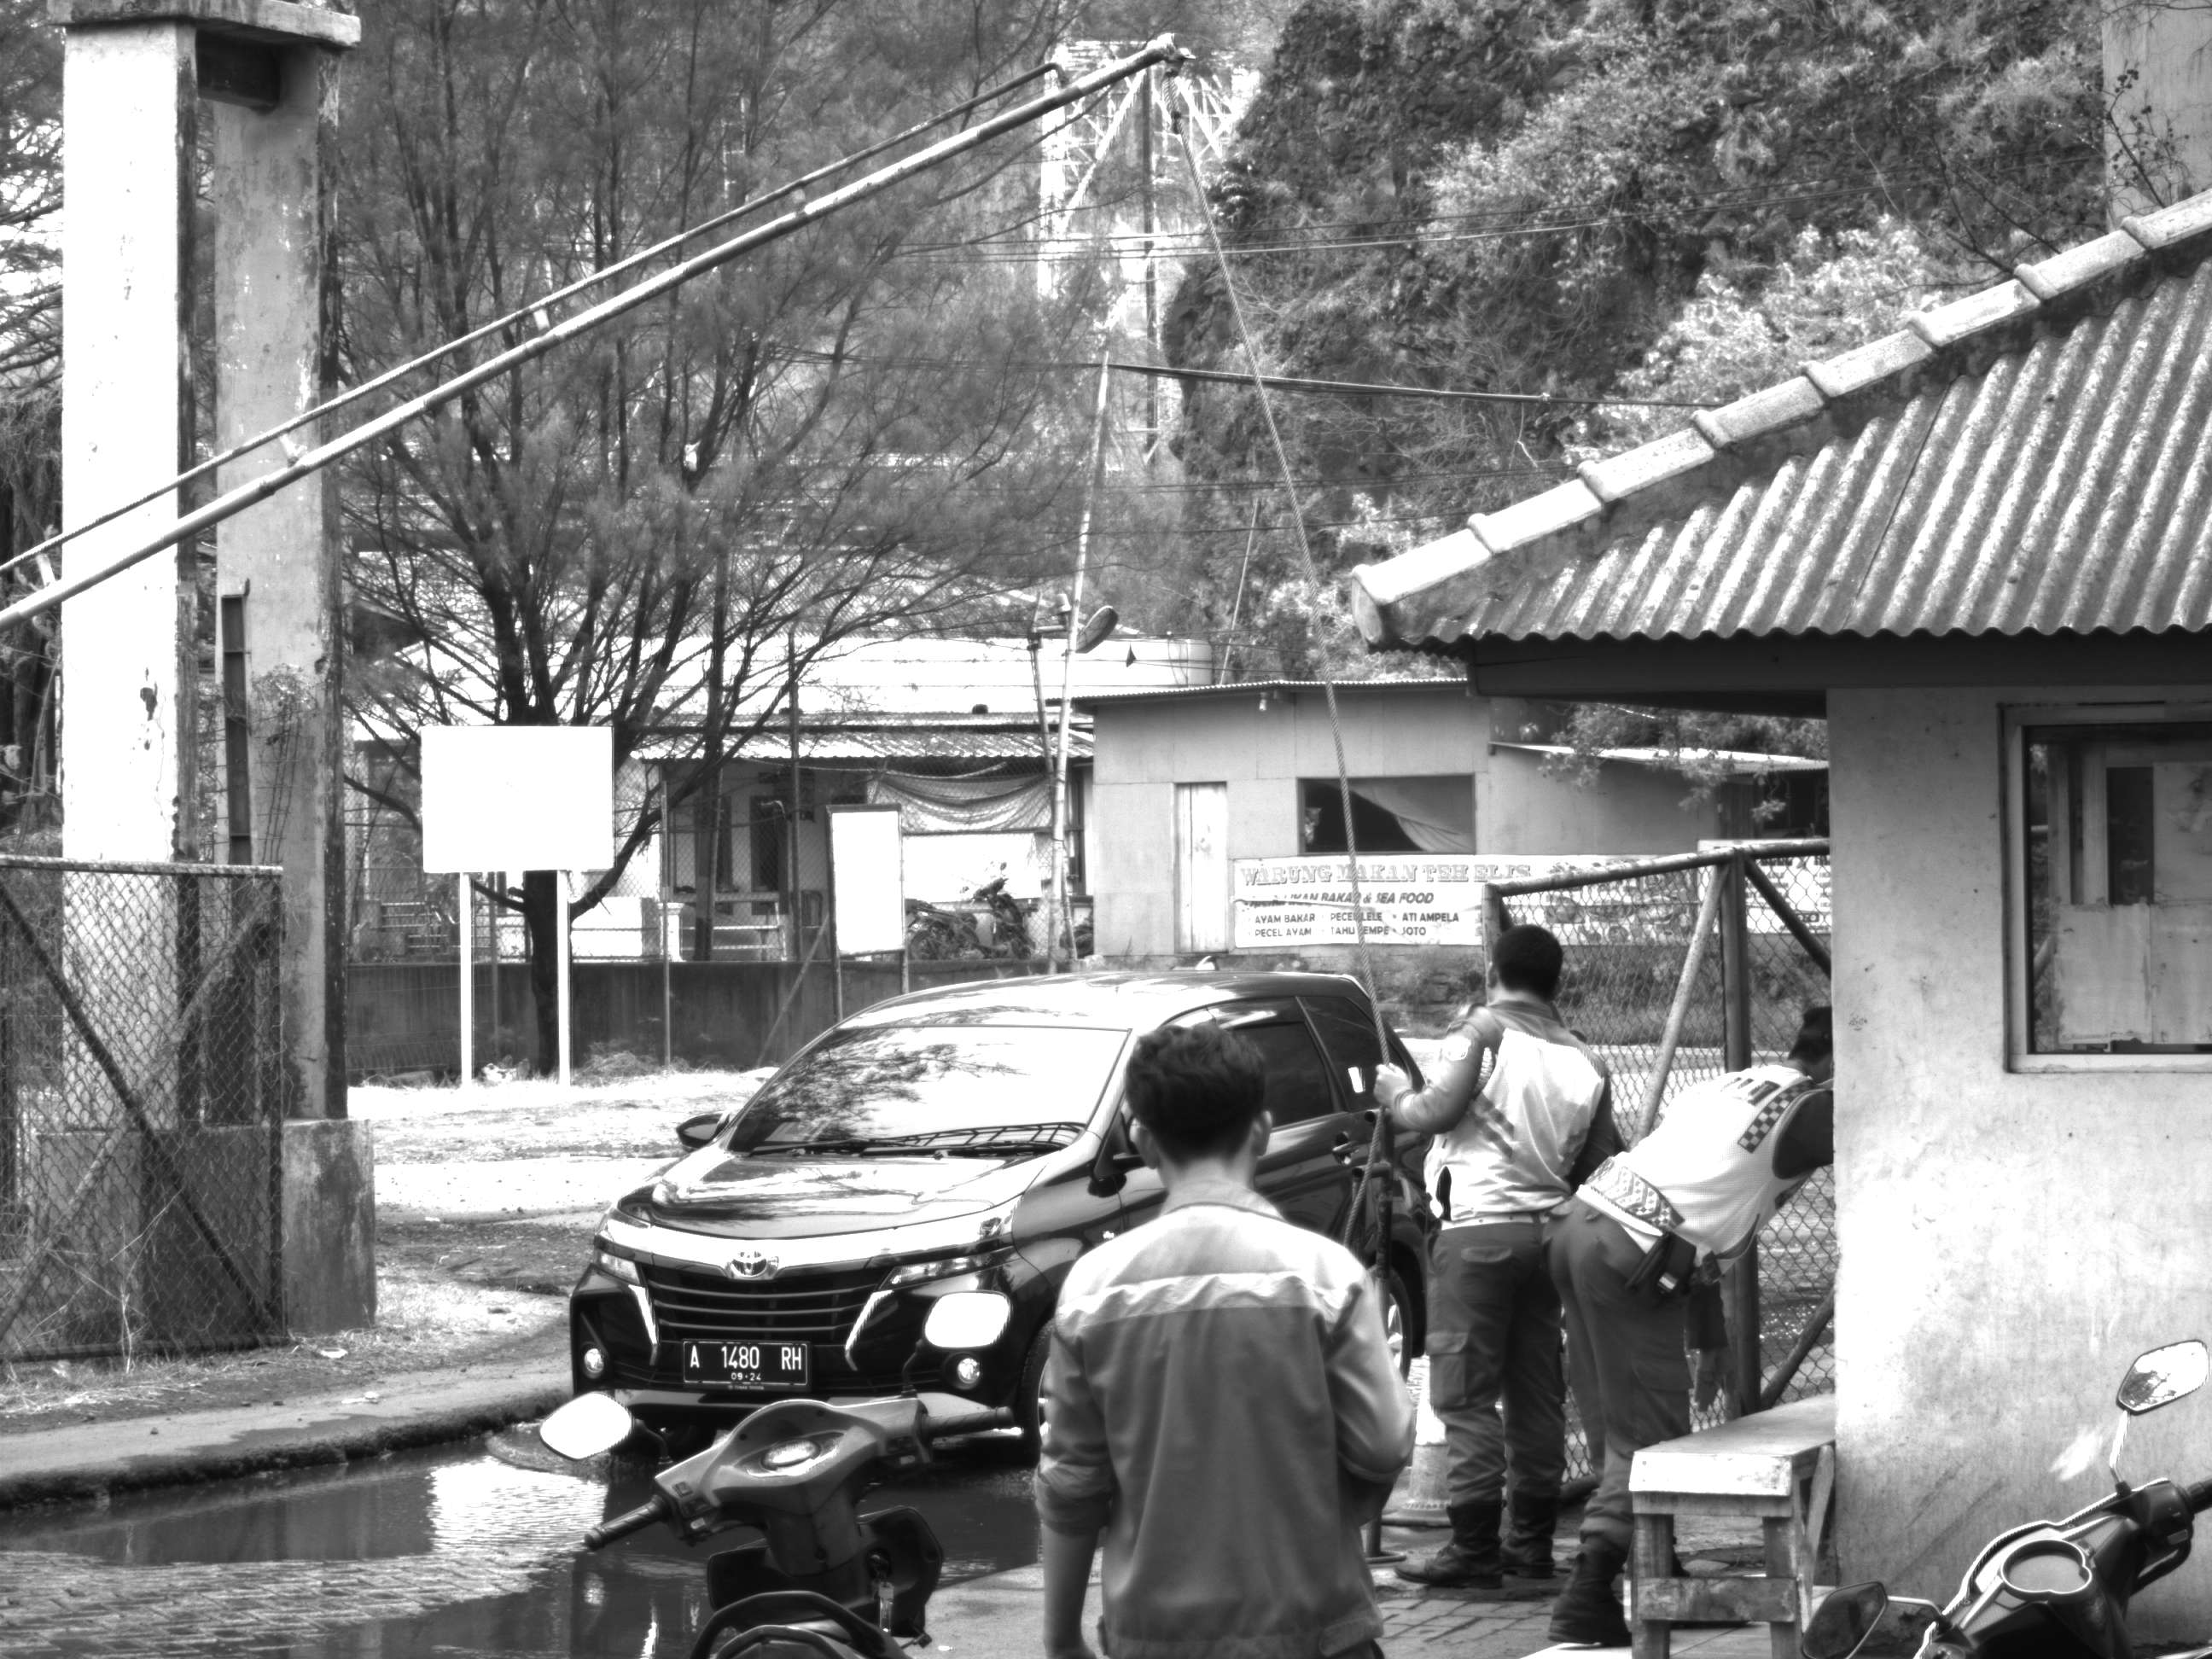day_small_front: (571, 994, 1096, 1468)
plate: (683, 1339, 812, 1388)
